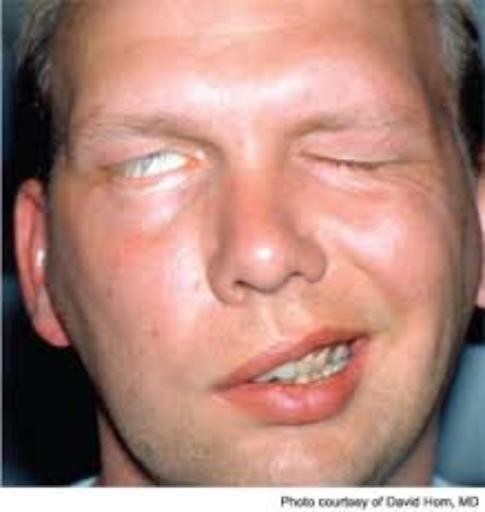left_eye: (297, 138, 412, 180)
left_lip_corner: (349, 322, 386, 351)
right_eye: (106, 147, 214, 183)
right_lip_corner: (197, 376, 232, 400)
